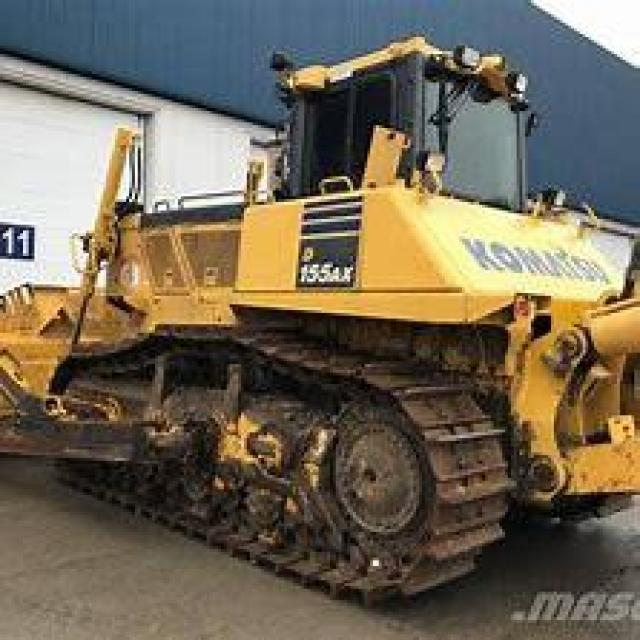Bulldozer: (0, 34, 637, 600)
